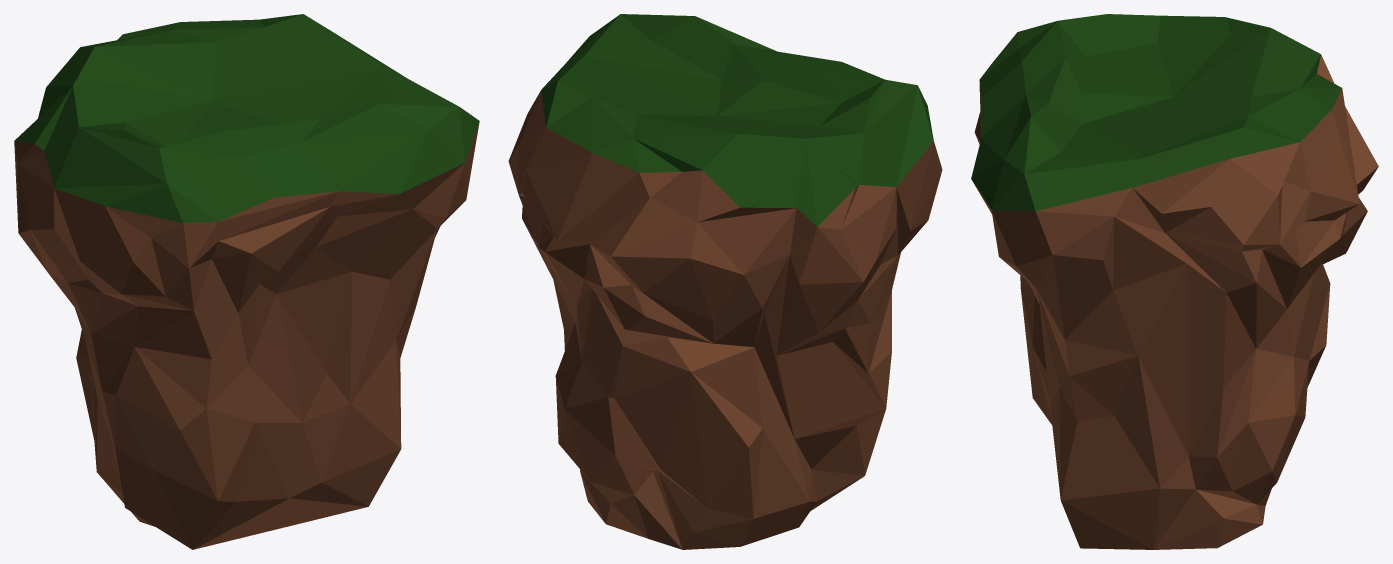
The model's file is SM_cliff_grass_03.fbx.
3 renders of one model, left to right at view 1: azimuth 30°, elevation 25°; view 2: azimuth 150°, elevation 25°; view 3: azimuth 270°, elevation 25°, orthographic.
Parts seen in each view (by area): view 1: cliff_grass_03; view 2: cliff_grass_03; view 3: cliff_grass_03.
Boxes of the visible parts, x1,y1,x2,y2 form: cliff_grass_03: (14,14,479,549); cliff_grass_03: (508,14,942,549); cliff_grass_03: (971,14,1378,549).
Bounding box in the file's own units: 1823 × 2131 × 1737.
